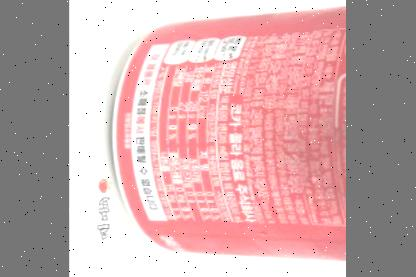Can: (108, 4, 346, 264)
